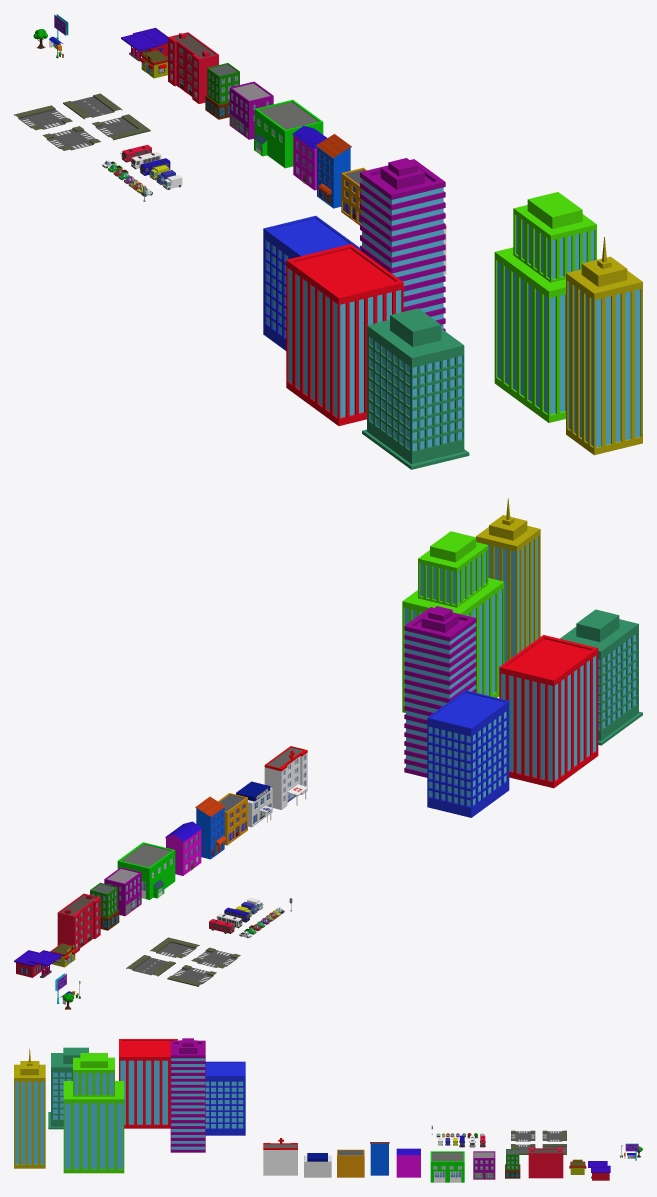
The model's file is cartoon city pack.FBX.
3 views of the same model, one above another, from view 1: azimuth 30°, elevation 25°; view 2: azimuth 150°, elevation 25°; view 3: azimuth 270°, elevation 25° (orthographic). The views are drawn at different scales.
Parts seen in each view (by area): view 1: skyscraper3, skyscraper2, skyscraper6, skyscraper4, skyscraper5, skyscraper1, elektricity building, cartoon house, shop house, building with shops, wedding cacke building, roofed house (+7 smaller); view 2: skyscraper2, skyscraper1, skyscraper3, skyscraper5, skyscraper6, skyscraper4, elektricity building, hospital, cartoon house, shop house, roofed house, building with shops (+4 smaller); view 3: skyscraper3, skyscraper2, skyscraper5, skyscraper6, skyscraper1, skyscraper4, hospital, cartoon house, elektricity building, wide building with shop, roofed house, police station (+7 smaller).
Boxes of the visible parts, box(x1,y1,x2,y2) form: skyscraper3: box(494, 192, 596, 422); skyscraper2: box(286, 244, 403, 425); skyscraper6: box(566, 237, 642, 455); skyscraper4: box(362, 308, 469, 469); skyscraper5: box(360, 158, 445, 331); skyscraper1: box(263, 215, 360, 350); elektricity building: box(254, 99, 323, 168); cartoon house: box(168, 32, 218, 103); shop house: box(316, 134, 351, 208); building with shops: box(229, 81, 273, 139); wedding cacke building: box(205, 63, 239, 119); roofed house: box(292, 125, 327, 190); skyscraper2: box(499, 635, 598, 788); skyscraper1: box(427, 690, 509, 817); skyscraper3: box(402, 531, 504, 712); skyscraper5: box(404, 606, 476, 777); skyscraper6: box(476, 498, 540, 662); skyscraper4: box(560, 609, 642, 745); elektricity building: box(117, 842, 175, 899); hospital: box(264, 746, 307, 809); cartoon house: box(57, 893, 100, 952); shop house: box(195, 796, 226, 859); roofed house: box(165, 821, 201, 875); building with shops: box(104, 867, 141, 916); skyscraper3: box(63, 1053, 124, 1173); skyscraper2: box(119, 1039, 177, 1128); skyscraper5: box(170, 1038, 205, 1152); skyscraper6: box(14, 1048, 45, 1168); skyscraper1: box(205, 1061, 245, 1135); skyscraper4: box(48, 1047, 88, 1129); hospital: box(263, 1138, 297, 1175); cartoon house: box(528, 1147, 563, 1178); elektricity building: box(430, 1151, 464, 1182); wide building with shop: box(337, 1149, 364, 1177); roofed house: box(396, 1148, 420, 1177); police station: box(304, 1153, 331, 1177).
Size of the model in its own units: 3159 by 2335 by 11689.
